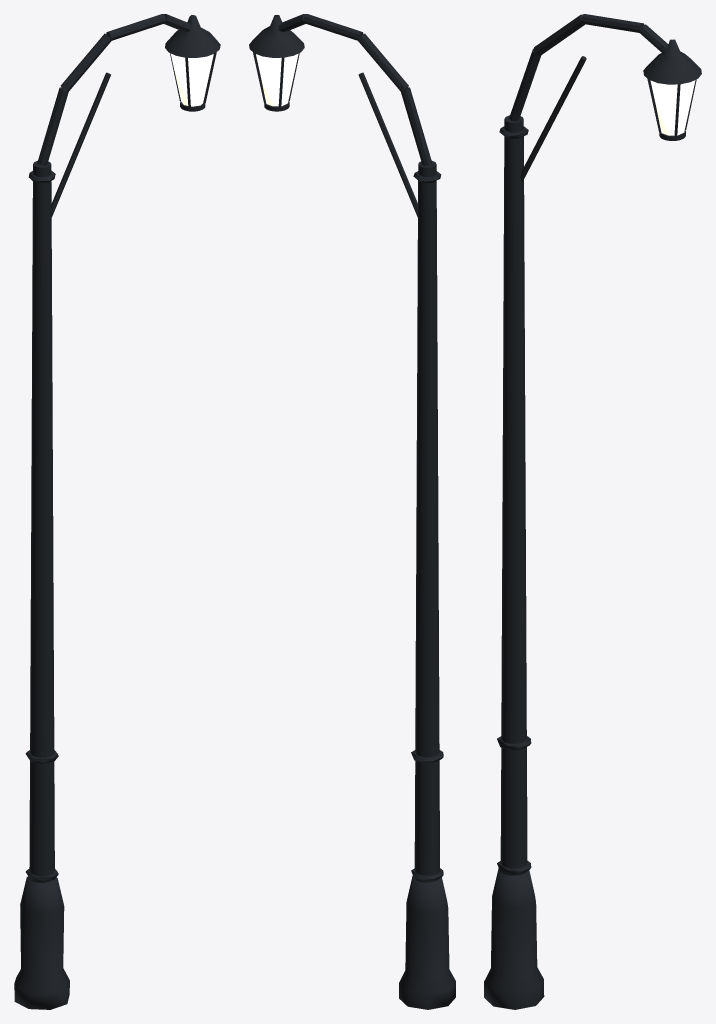
File: poste-leve.glb
The picture shows the model from 3 angles, left to right: view 1: azimuth 30°, elevation 25°; view 2: azimuth 150°, elevation 25°; view 3: azimuth 330°, elevation 25°; orthographic projection. The views are drawn at different scales.
Parts seen in each view (by area): view 1: fuste, base, vidro, chapeu, voluta, braco, braco.001, braco.002; view 2: fuste, base, vidro, chapeu, voluta, braco, braco.001, braco.002; view 3: fuste, base, vidro, chapeu, voluta, braco, braco.002, braco.001.
Boxes of the visible parts, x1,y1,x2,y2 form: fuste: [29, 160, 54, 883]; base: [14, 876, 69, 1009]; vidro: [170, 53, 213, 106]; chapeu: [165, 15, 220, 57]; voluta: [51, 72, 110, 217]; braco: [37, 87, 68, 165]; braco.001: [60, 33, 111, 91]; braco.002: [106, 14, 166, 40]; fuste: [414, 161, 439, 882]; base: [399, 875, 455, 1009]; vidro: [256, 53, 298, 106]; chapeu: [249, 15, 304, 57]; voluta: [358, 72, 417, 217]; braco: [401, 87, 431, 165]; braco.001: [358, 33, 408, 91]; braco.002: [303, 14, 363, 40]; fuste: [500, 115, 527, 875]; base: [484, 868, 544, 1009]; vidro: [650, 80, 695, 135]; chapeu: [643, 39, 701, 84]; voluta: [520, 56, 586, 181]; braco: [509, 49, 541, 121]; braco.002: [581, 14, 644, 32]; braco.001: [533, 14, 584, 55].
Size of the model in its own units: 0.9 by 4.12 by 0.22.
